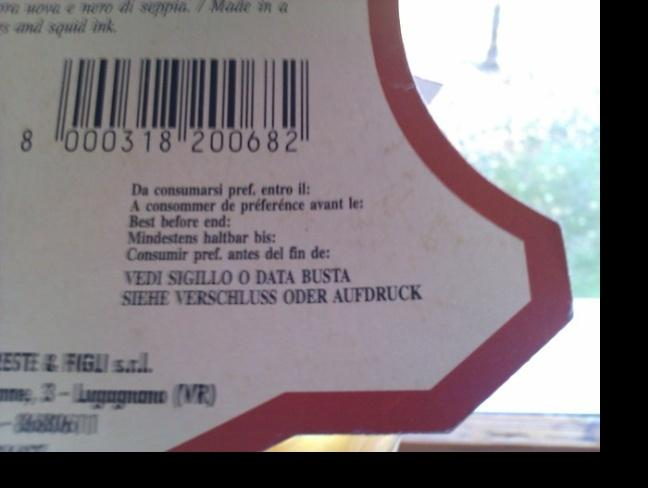Barcode: (12, 46, 340, 169)
